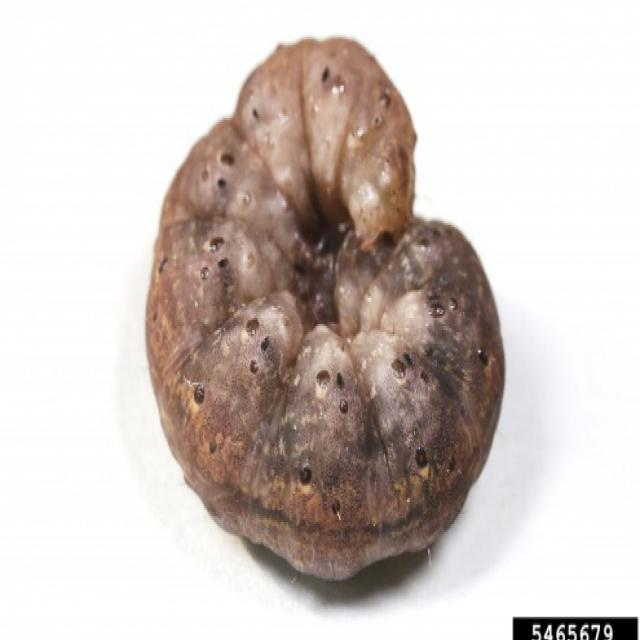Cutworm: (145, 40, 509, 601)
